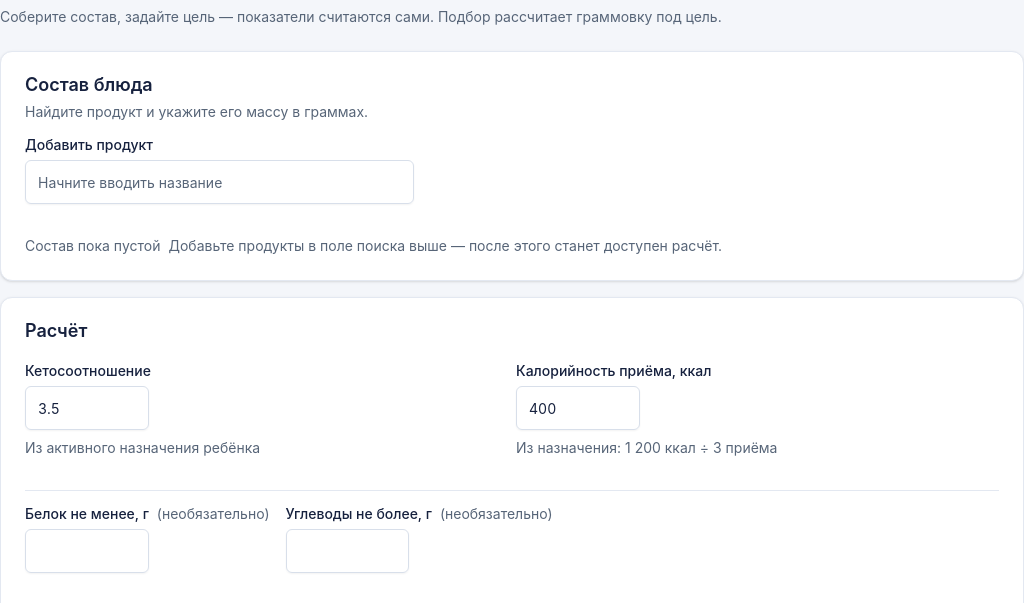
Test: калькулятор › повторный отказ с другим текстом объявляет только сам отказ
This screenshot has width=1024, height=603.
Type "масло" into the dropdown labelled "Добавить продукт" at (219, 182), box [25, 160, 414, 204]
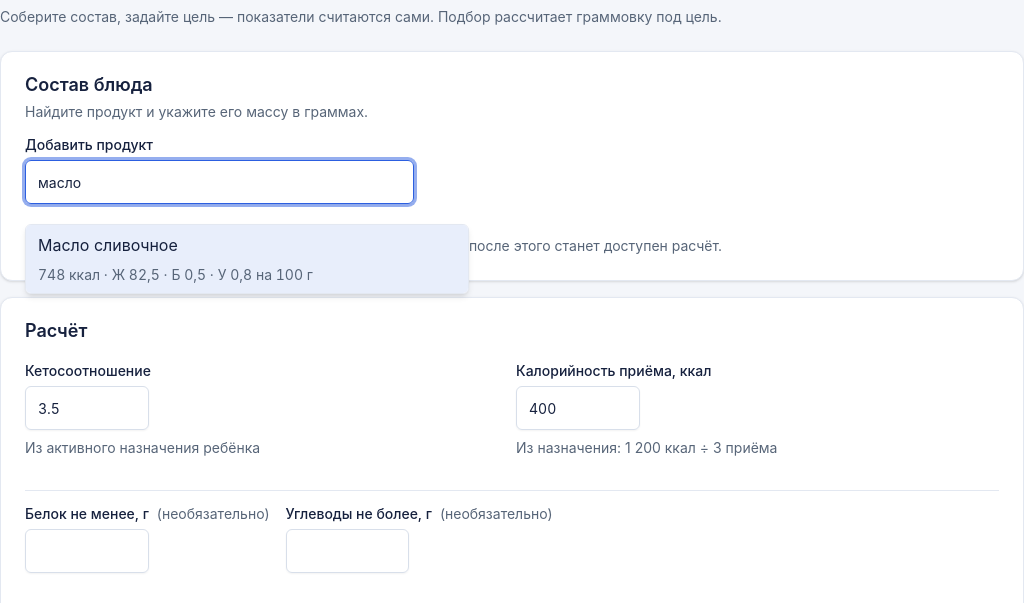
Click the option "Масло сливочное 748 ккал · Ж 82,5 · Б 0,5 · У 0,8 на 100 г" at (108, 245), box [26, 225, 468, 293]
(page scrolled)
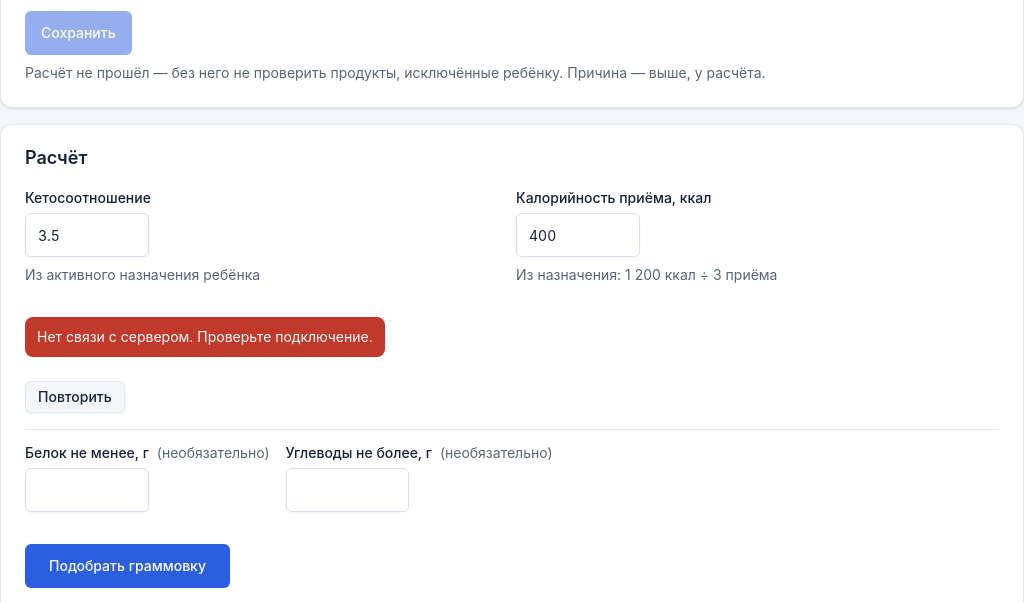
Click the button "Повторить" at (75, 397), box [25, 381, 125, 413]
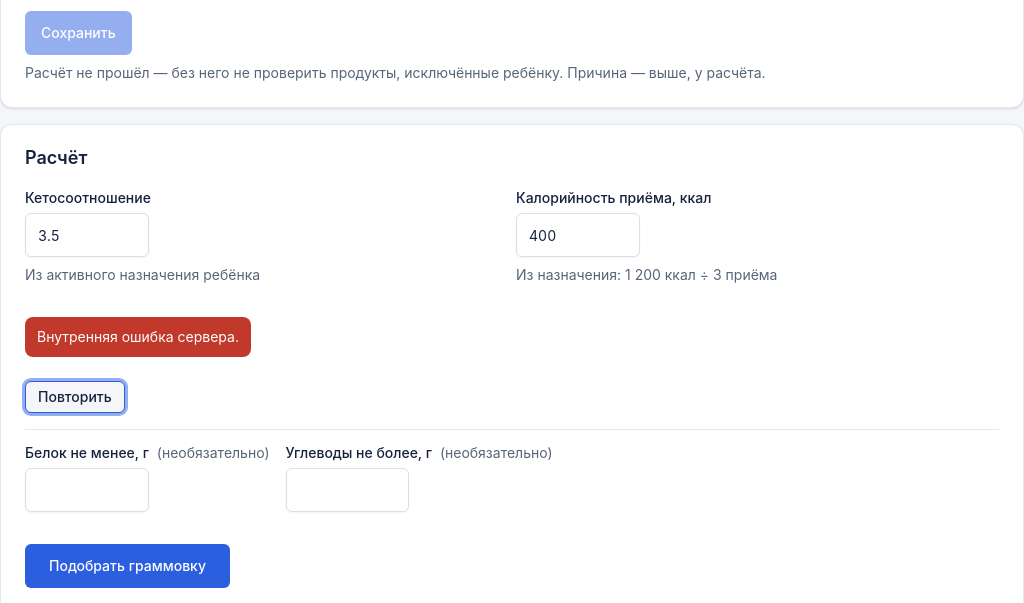
Now the text "Внутренняя ошибка сервера." is shown, box [25, 317, 251, 357]
